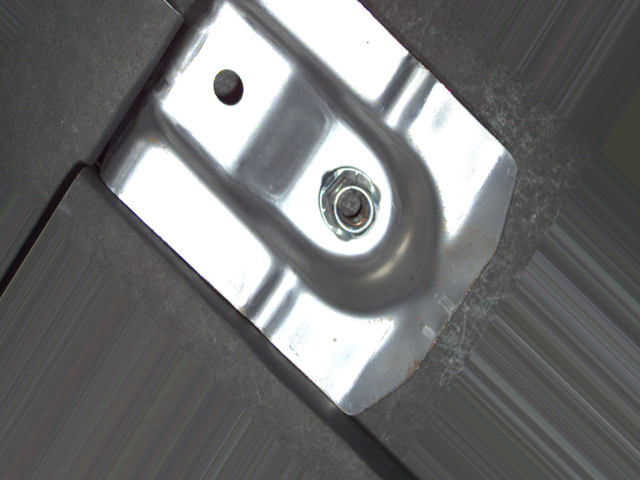good: (315, 164, 387, 244)
